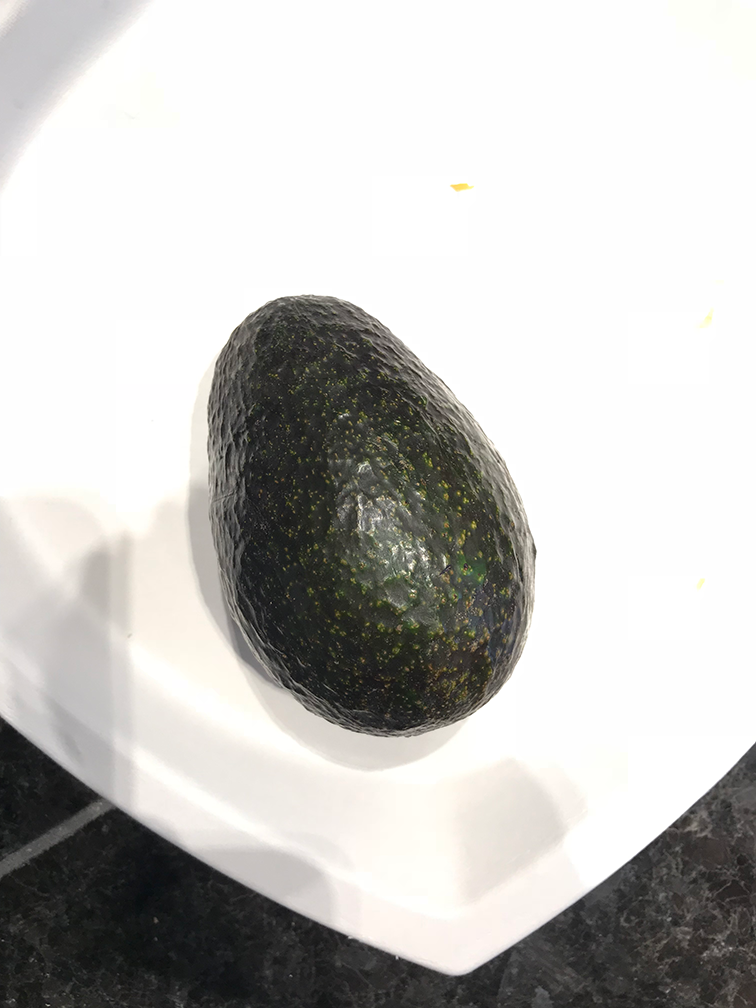avocado: (184, 286, 556, 762)
